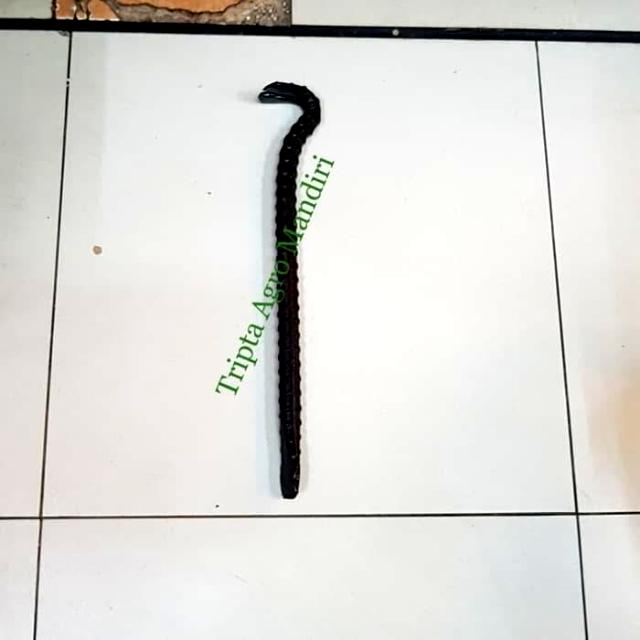crow bar: (261, 84, 323, 498)
